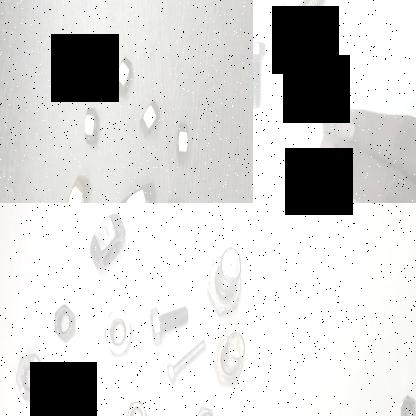Bolts: (195, 240, 247, 316), (274, 0, 329, 60), (210, 328, 248, 392), (148, 292, 188, 350), (165, 335, 207, 385), (253, 33, 270, 117), (189, 393, 219, 416)
NUTS: (85, 203, 127, 276), (9, 344, 46, 404), (102, 298, 134, 364), (50, 297, 80, 351), (58, 167, 94, 203), (134, 98, 162, 144), (112, 46, 134, 102), (117, 176, 157, 203), (80, 100, 100, 152), (173, 116, 192, 163), (122, 387, 148, 416), (73, 383, 95, 416), (397, 393, 415, 416)
